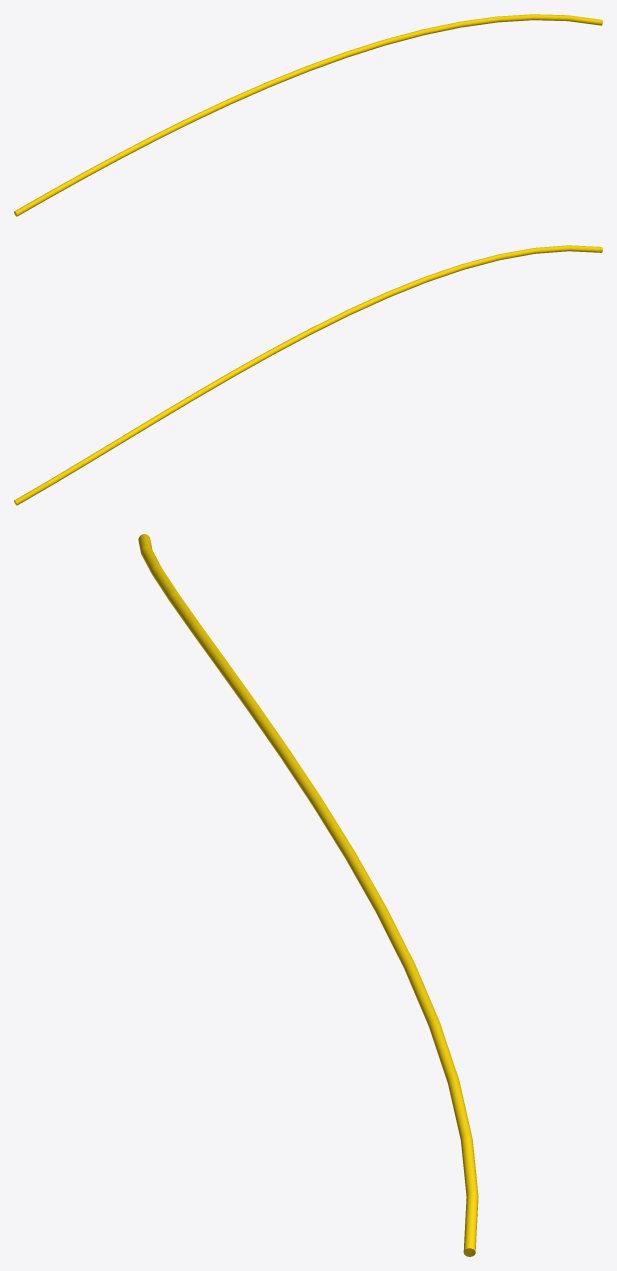
File: Event_421127236_track_45.fbx
3 renders of one model, top to bottom at view 1: azimuth 30°, elevation 25°; view 2: azimuth 210°, elevation 25°; view 3: azimuth 270°, elevation 25°, orthographic. The views are drawn at different scales.
Visible parts, largest first — view 1: Model; view 2: Model; view 3: Model.
Part boxes in pixels (<box>): Model: <box>14,14,602,216</box>; Model: <box>14,245,602,505</box>; Model: <box>138,534,478,1256</box>.
Size of the model in its own units: 5.16 by 0.5144 by 1.14.
